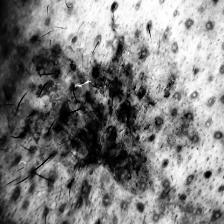Benign Marking or Mole: (43, 29, 201, 194)
